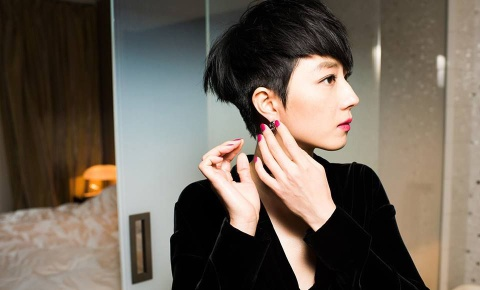female: (195, 2, 402, 166)
